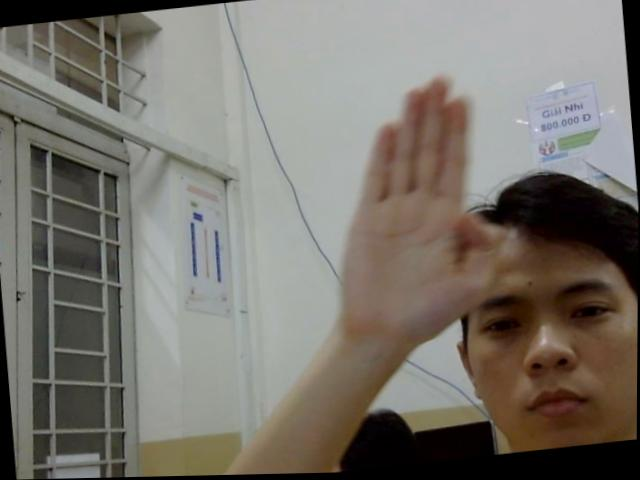B: (319, 63, 514, 373)
